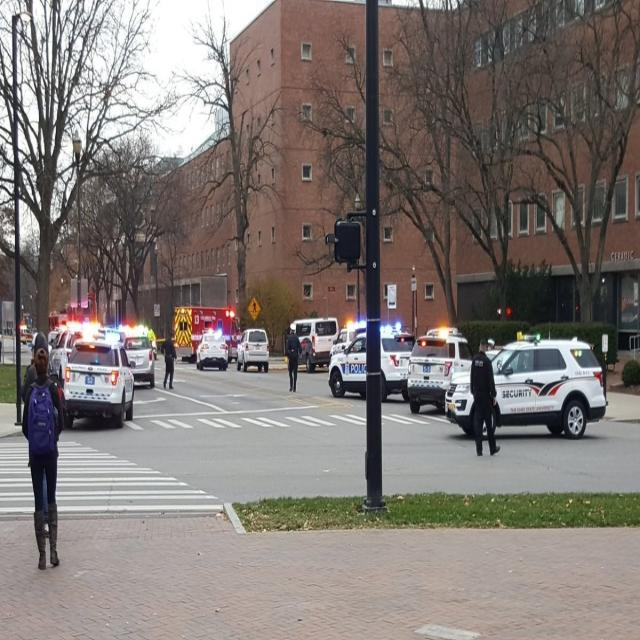body: (20, 344, 66, 572), (20, 329, 62, 539), (469, 337, 501, 457), (283, 320, 303, 392), (160, 331, 177, 391)
